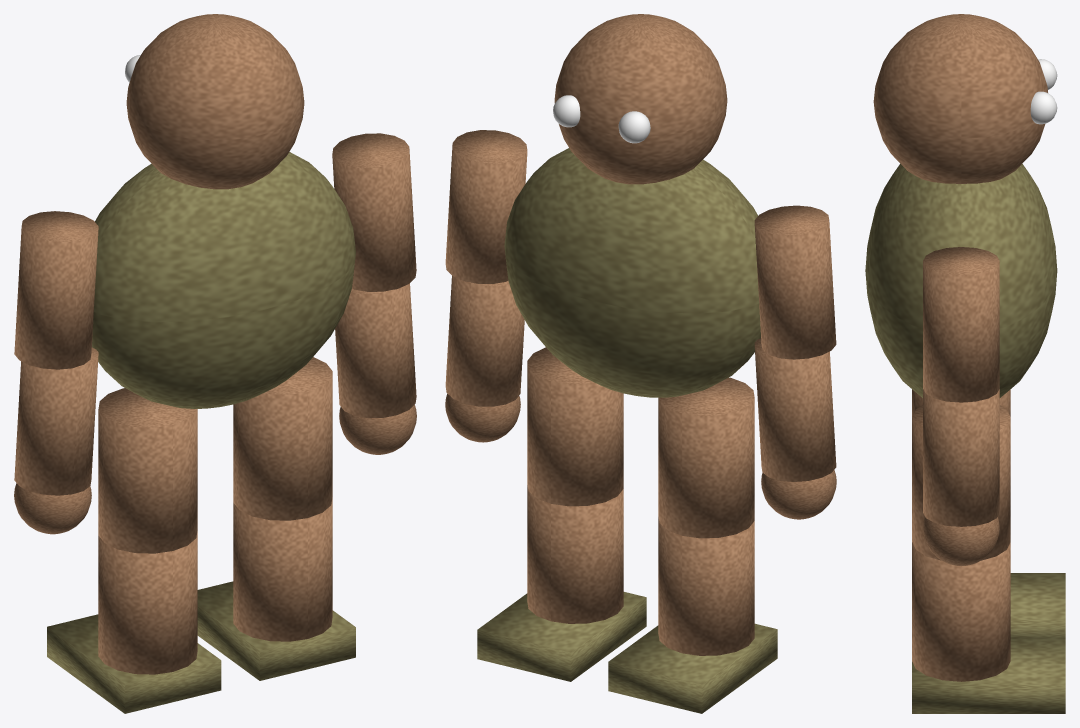
The model's file is void-horror.glb.
3 views of the same model, side by side, from view 1: azimuth 30°, elevation 25°; view 2: azimuth 150°, elevation 25°; view 3: azimuth 270°, elevation 25° (orthographic). The views are drawn at different scales.
Visible parts, largest first — view 1: Torso, Head, ThighL, ThighR, ShinR, ShinL, UpperArmL, UpperArmR, ForearmL, ForearmR, FootL, FootR (+2 smaller); view 2: Torso, Head, ThighL, ThighR, ShinR, ShinL, UpperArmL, UpperArmR, ForearmL, ForearmR, FootL, FootR (+4 smaller); view 3: Torso, Head, ShinR, UpperArmR, ForearmR, FootR, FootL, ThighR, HandR, Eye.001, ThighL, Eye.
Boxes of the visible parts, x1,y1,x2,y2 form: Torso: (92,152,355,408); Head: (126,14,304,189); ThighL: (98,388,197,553); ThighR: (233,357,332,520); ShinR: (233,497,332,641); ShinL: (98,531,197,674); UpperArmL: (14,211,98,369); UpperArmR: (332,133,416,291); ForearmL: (14,347,98,495); ForearmR: (335,283,416,418); FootL: (47,614,221,713); FootR: (197,581,355,680); Torso: (504,148,760,397); Head: (554,14,727,184); ThighL: (658,377,754,538); ThighR: (527,347,623,506); ShinR: (527,485,623,623); ShinL: (658,517,754,655); UpperArmL: (754,205,836,359); UpperArmR: (445,130,527,283); ForearmL: (754,338,836,481); ForearmR: (445,276,524,406); FootL: (608,623,777,713); FootR: (477,592,646,681); Torso: (865,163,1057,397); Head: (873,14,1047,183); ShinR: (912,542,1010,681); UpperArmR: (923,247,999,402); ForearmR: (923,389,999,526); FootR: (912,637,1065,713); FootL: (1010,573,1065,637); ThighR: (912,405,1010,560); HandR: (923,517,999,566); Eye.001: (1030,91,1057,124); ThighL: (912,389,1010,416); Eye: (1038,59,1057,89).
Bounding box in the file's own units: 0.6367 × 1 × 0.2852.
3 materials, 2 textured.
